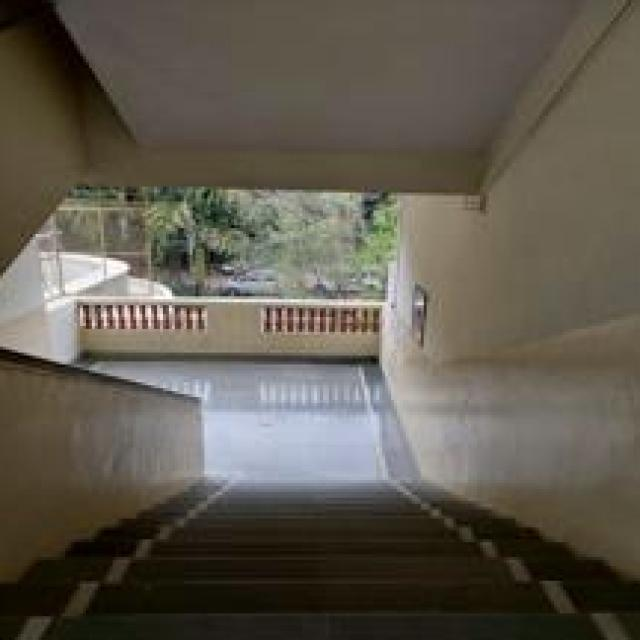downstair: (158, 463, 487, 635)
